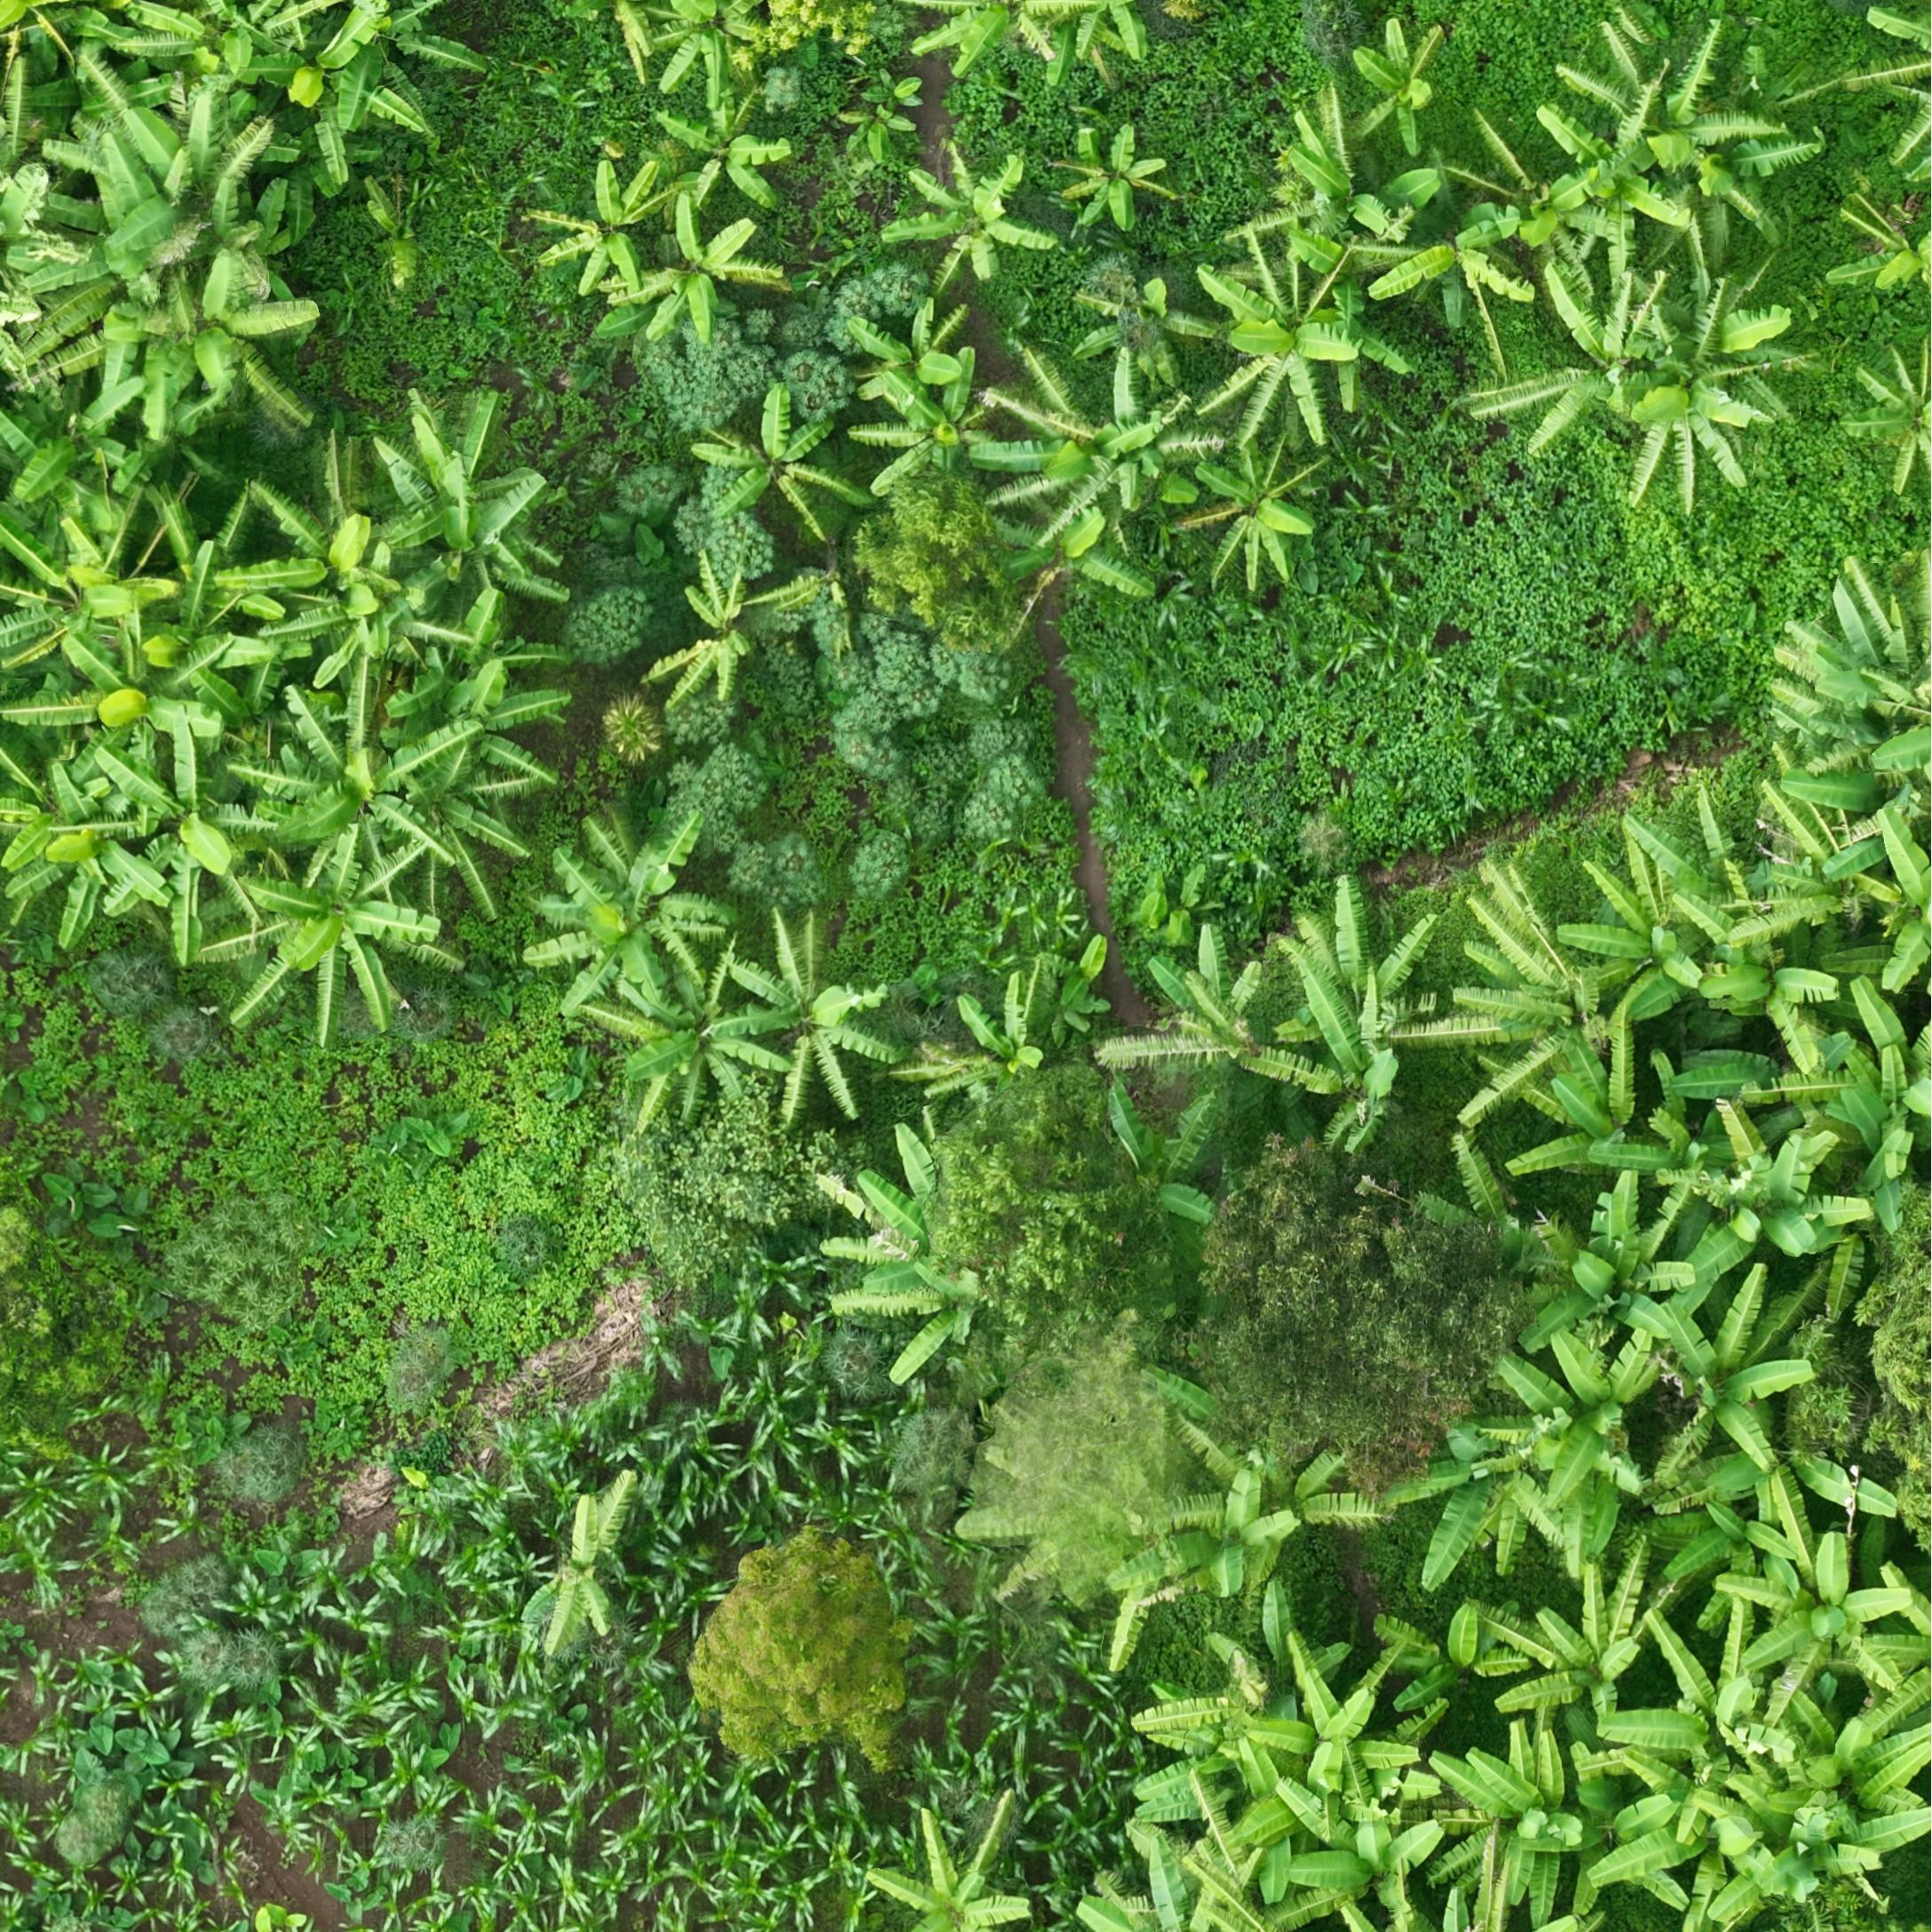Banana: (1534, 939, 1792, 1180), (64, 580, 248, 832), (1622, 1146, 1870, 1327), (30, 156, 226, 375), (78, 32, 267, 251), (11, 766, 180, 993), (740, 947, 924, 1152), (1343, 950, 1545, 1136), (101, 770, 280, 975), (564, 847, 745, 1044), (258, 870, 439, 1067), (1566, 1407, 1729, 1622), (1246, 248, 1417, 449), (1645, 890, 1847, 1060), (225, 5, 442, 157), (637, 985, 809, 1173), (1192, 998, 1385, 1161), (140, 265, 320, 439), (1560, 1638, 1727, 1826), (1208, 1695, 1391, 1863), (271, 495, 419, 701), (283, 724, 471, 885), (862, 1194, 1003, 1407), (1798, 828, 1932, 1049), (1598, 1258, 1764, 1433), (1468, 1468, 1649, 1628), (1332, 104, 1460, 326), (1716, 1350, 1877, 1523), (1667, 37, 1828, 207), (1776, 1168, 1932, 1339), (1614, 267, 1748, 460), (1030, 396, 1210, 540), (1495, 1819, 1720, 1932), (163, 552, 315, 718), (5, 511, 154, 681), (1798, 1468, 1932, 1656), (421, 674, 580, 830), (407, 754, 541, 936), (1776, 1598, 1932, 1752), (1707, 1667, 1872, 1812), (1185, 1518, 1339, 1658), (1714, 347, 1840, 513), (635, 232, 796, 361), (736, 410, 885, 550), (1353, 1727, 1502, 1865), (943, 159, 1090, 285), (1244, 458, 1373, 596), (1332, 1844, 1529, 1932), (1454, 207, 1594, 322), (557, 175, 690, 295), (904, 414, 1074, 504), (685, 106, 821, 214), (970, 1023, 1108, 1122), (1693, 1822, 1822, 1925), (672, 4, 803, 101), (1415, 23, 1507, 156), (1833, 1813, 1932, 1932), (1449, 1677, 1569, 1764), (1099, 134, 1203, 234), (892, 340, 1012, 425), (711, 603, 794, 718), (580, 1575, 649, 1693), (1074, 984, 1161, 1076)
